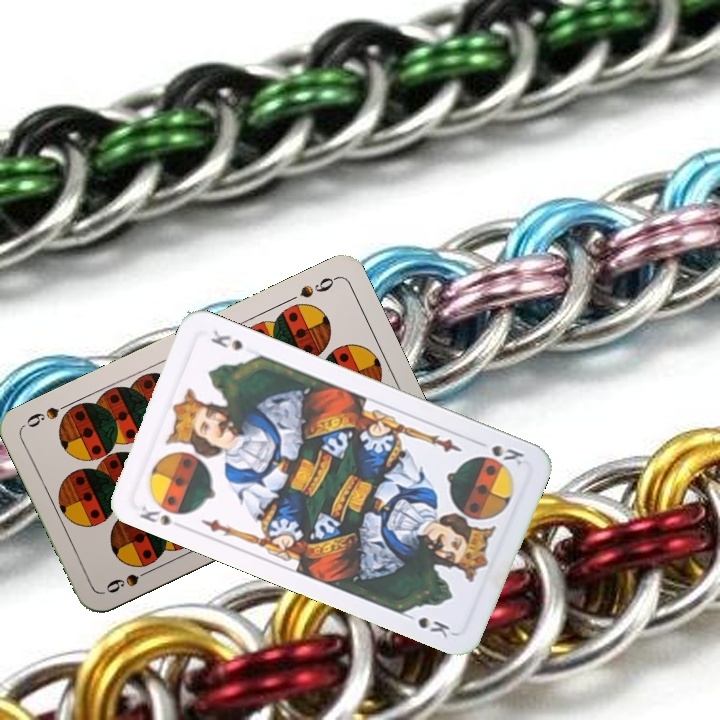S9: (101, 564, 157, 596), (295, 272, 340, 301)
SK: (471, 436, 528, 468), (135, 501, 174, 529)
